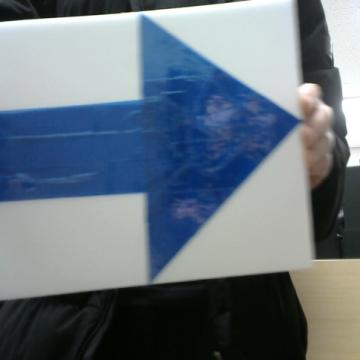blue_right: (0, 16, 298, 280)
